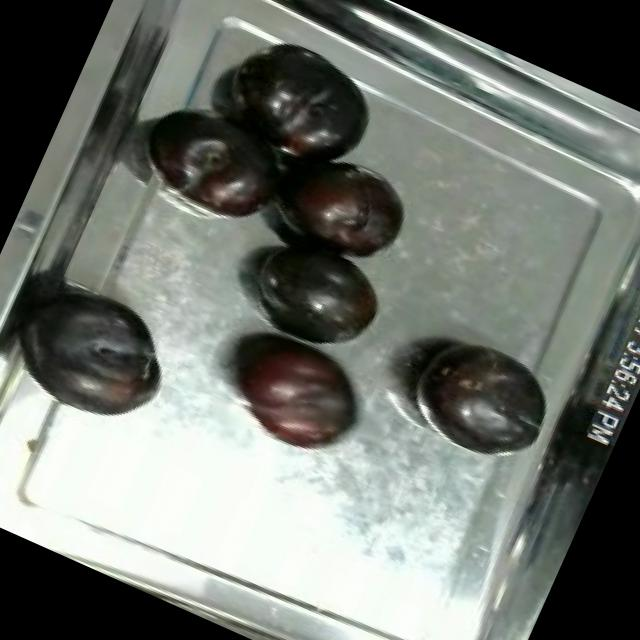Fruit: (1, 266, 189, 444), (204, 312, 384, 471), (124, 89, 304, 244), (220, 26, 394, 186), (398, 320, 569, 475), (264, 138, 421, 278), (242, 218, 401, 355)
